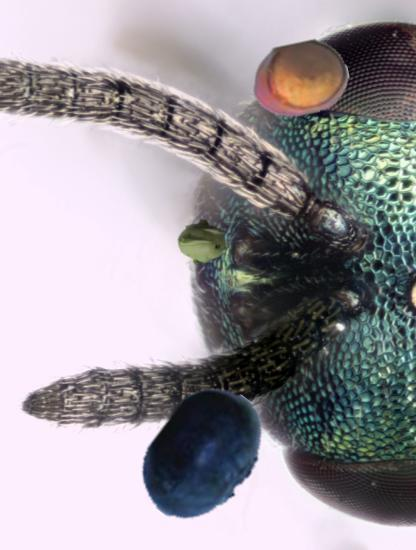Blueberry: (133, 384, 275, 526)
Hazelnut: (252, 31, 350, 129)
Kohlrabi: (177, 217, 229, 269)
